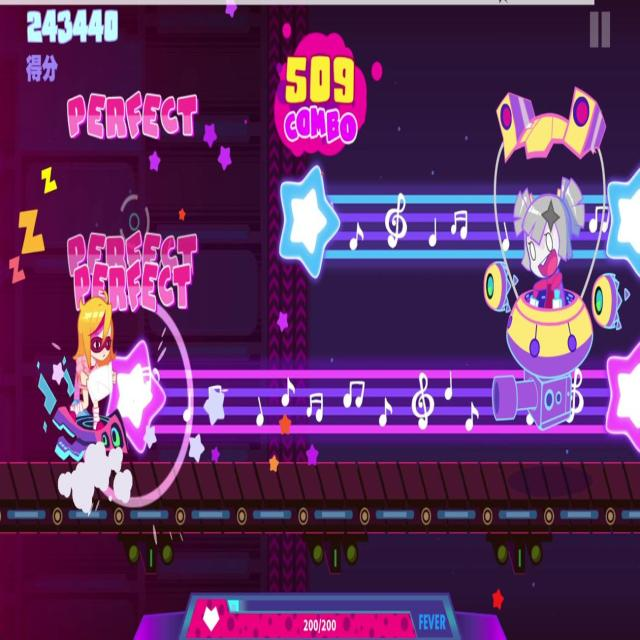hold: (102, 334, 640, 457), (271, 152, 640, 286)
qiangboss: (482, 91, 624, 431)
